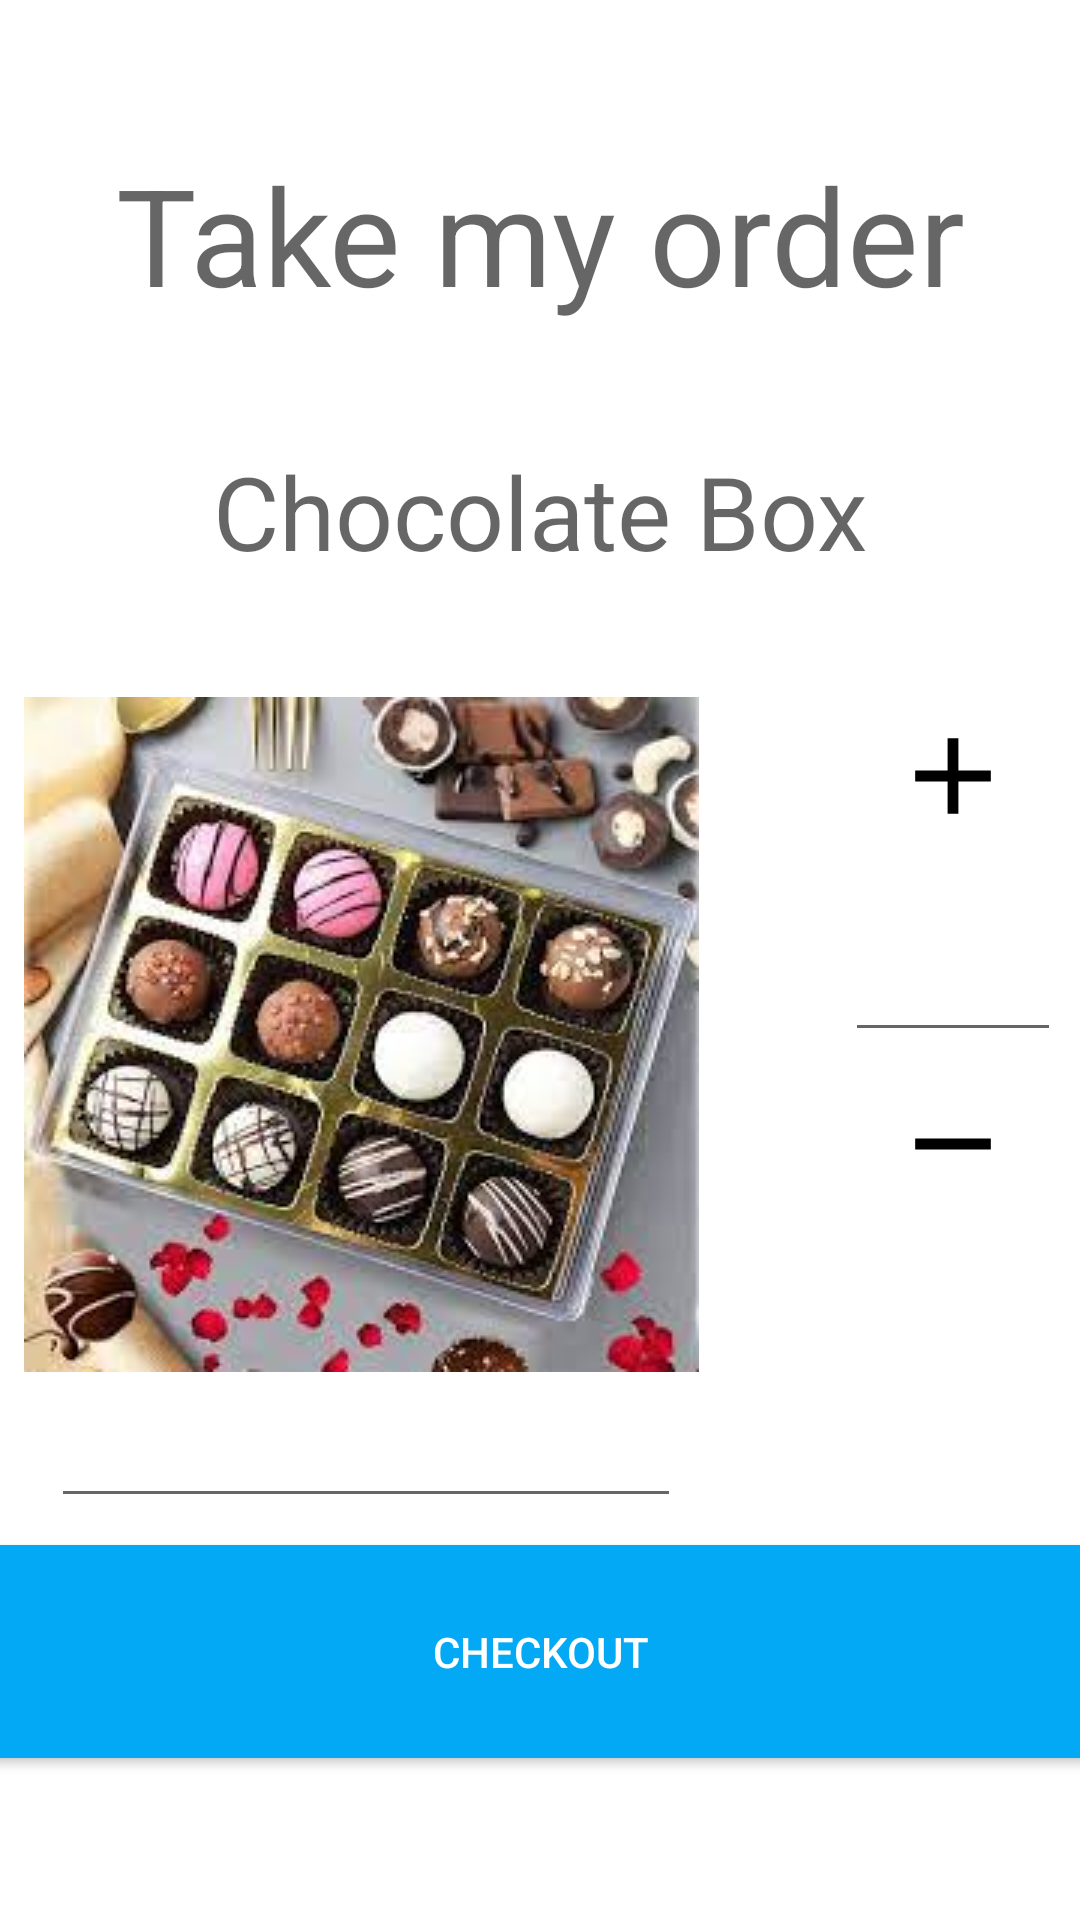

Icon bounding boxes for this 1080*1920 phone screenshot, format (x1, y1, x2, y2):
add: (915, 738, 991, 814)
